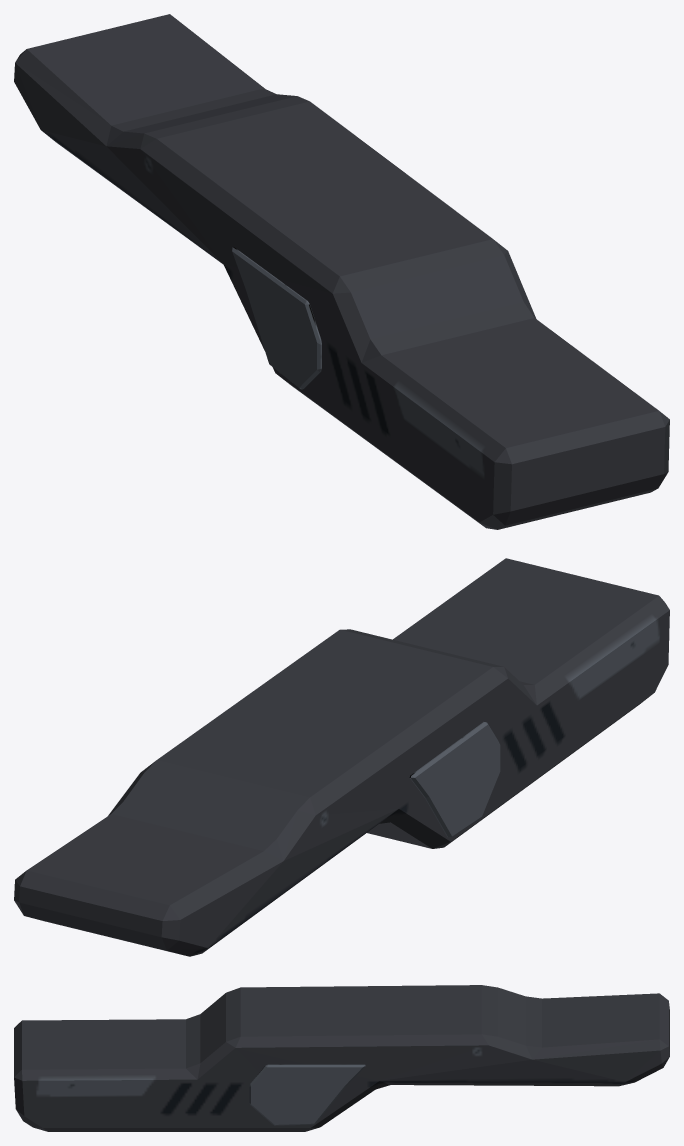
File: lower_chassis.obj
3 views of the same model, one above another, from view 1: azimuth 30°, elevation 25°; view 2: azimuth 150°, elevation 25°; view 3: azimuth 270°, elevation 25° (orthographic). The views are drawn at different scales.
Visible parts, largest first — view 1: lower_chassis; view 2: lower_chassis; view 3: lower_chassis.
Boxes of the visible parts, left/top/right/bottom form: lower_chassis: left=14, top=14, right=669, bottom=529; lower_chassis: left=14, top=558, right=669, bottom=956; lower_chassis: left=14, top=985, right=669, bottom=1131.
Size of the model in its own units: 0.0479 by 0.0371 by 0.2257.
1 material, 1 textured.
